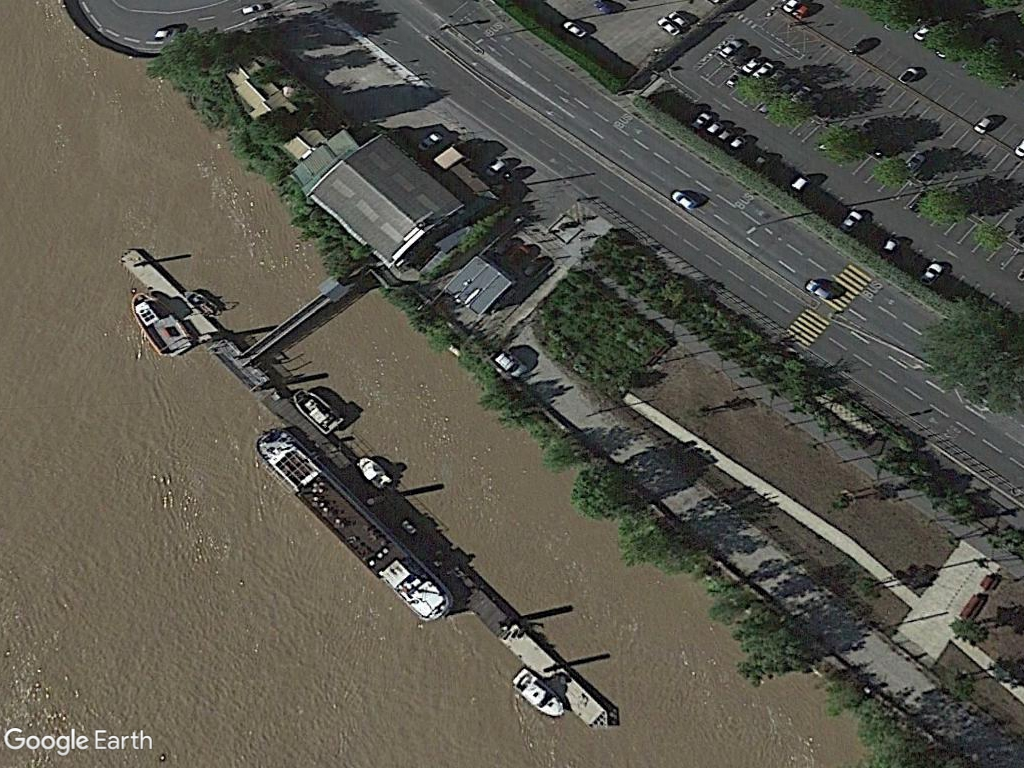boat: (251, 423, 460, 627), (120, 284, 195, 362), (507, 665, 567, 720), (289, 384, 346, 437)
